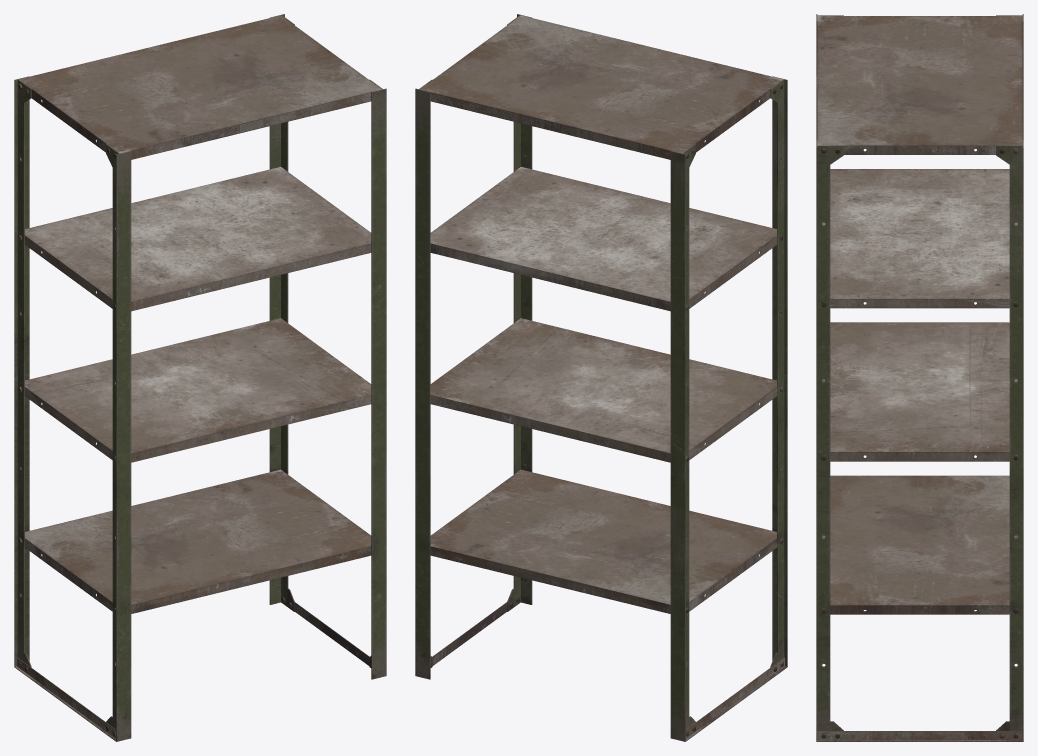
Rendered from bigger-shelf.glb.
The picture shows the model from 3 angles, left to right: view 1: azimuth 30°, elevation 25°; view 2: azimuth 150°, elevation 25°; view 3: azimuth 270°, elevation 25°; orthographic projection.
Visible parts, largest first — view 1: worn_metal_rack; view 2: worn_metal_rack; view 3: worn_metal_rack.
Part boxes in pixels (x1,y1,x2,y2): worn_metal_rack: [14, 14, 386, 741]; worn_metal_rack: [415, 14, 787, 741]; worn_metal_rack: [816, 14, 1023, 741].
Size of the model in its own units: 0.9154 by 1.9 by 0.6.
1 material, 1 textured.
